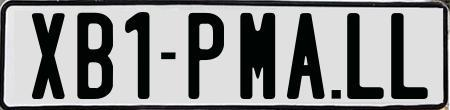1: (124, 12, 149, 99)
A: (286, 12, 328, 102)
B: (74, 13, 110, 101)
L: (389, 10, 431, 102), (345, 11, 386, 98)
M: (238, 13, 276, 103)
P: (187, 13, 223, 105)
X: (29, 10, 66, 100)
